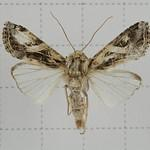Spodoptera litura: (2, 12, 150, 136)
